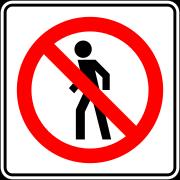Pedestrian Prohibited: (11, 18, 170, 165)
